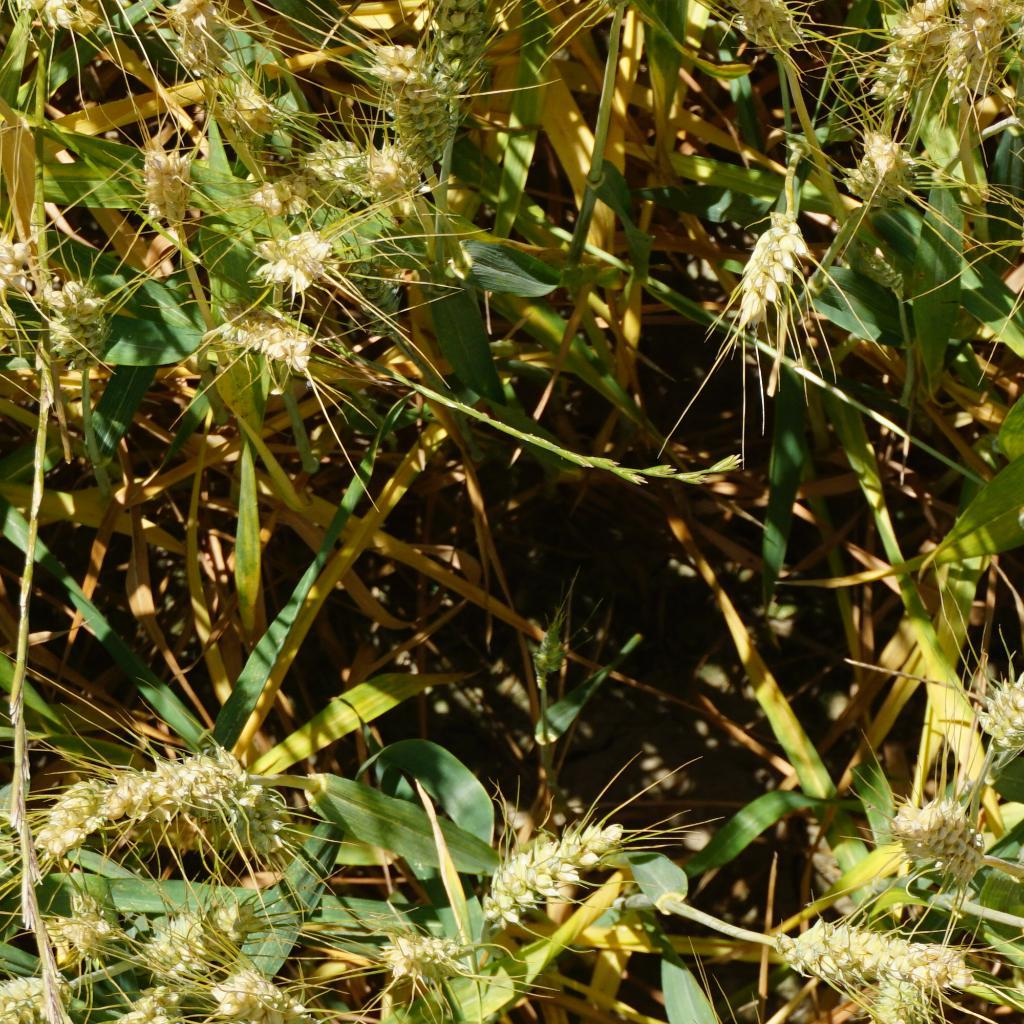0-0: (129, 769, 280, 864), (773, 918, 955, 987), (720, 214, 817, 332), (483, 817, 607, 908), (246, 218, 368, 309), (224, 303, 348, 388), (121, 141, 216, 244), (146, 892, 261, 976), (309, 130, 415, 206), (376, 43, 449, 149), (49, 285, 132, 372), (833, 203, 914, 290), (38, 758, 116, 847), (120, 745, 237, 804), (864, 19, 934, 117), (208, 55, 289, 137), (842, 132, 919, 216), (223, 968, 324, 1024), (887, 790, 971, 851), (742, 0, 816, 69), (388, 920, 466, 984), (940, 0, 1001, 79), (48, 904, 120, 964), (975, 655, 1024, 743), (866, 975, 943, 1024), (0, 230, 37, 326), (435, 0, 482, 72), (0, 969, 55, 1024), (120, 995, 188, 1024), (1019, 1008, 1024, 1024)
